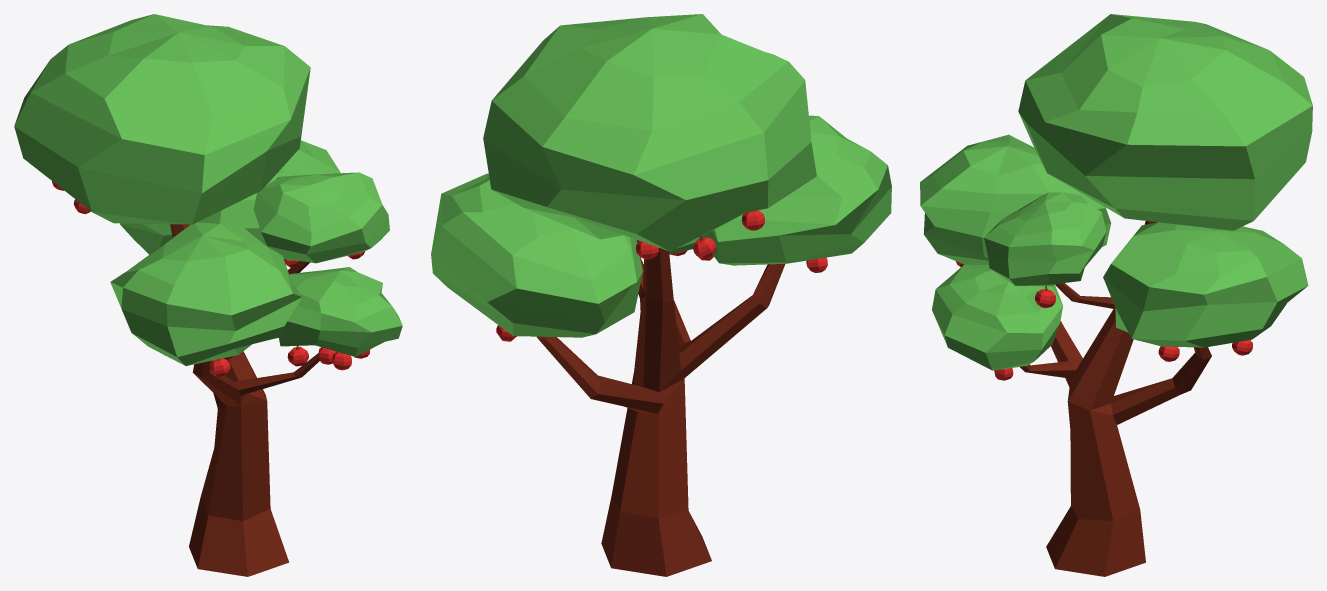
File: SceneRender.fbx
3 renders of one model, left to right at view 1: azimuth 30°, elevation 25°; view 2: azimuth 150°, elevation 25°; view 3: azimuth 270°, elevation 25°, orthographic. The views are drawn at different scales.
Parts seen in each view (by area): view 1: AppleTree; view 2: AppleTree; view 3: AppleTree.
Part boxes in pixels (x1=…): AppleTree: x1=14, y1=14, x2=402, y2=576; AppleTree: x1=431, y1=14, x2=891, y2=576; AppleTree: x1=920, y1=14, x2=1312, y2=576.
Bounding box in the file's own units: 296 × 470 × 333.
